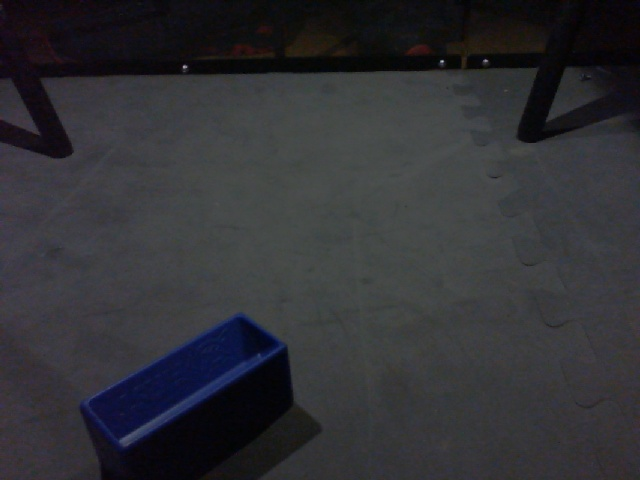BlueSample: (71, 310, 296, 480)
